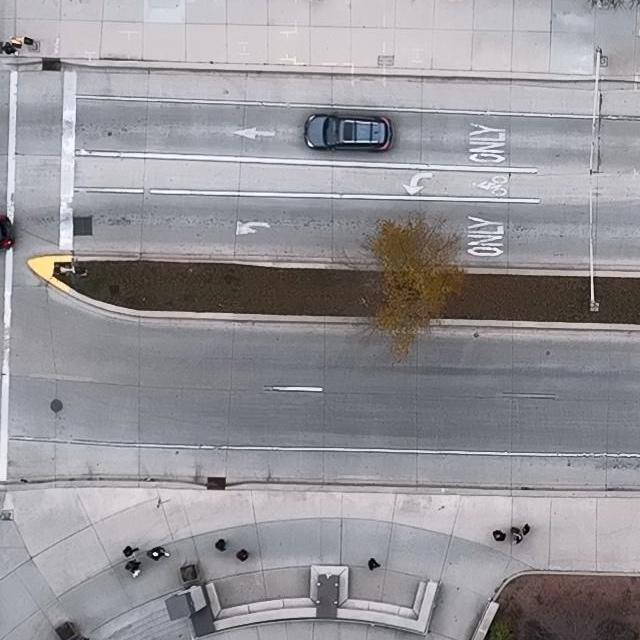car: (304, 113, 393, 154)
